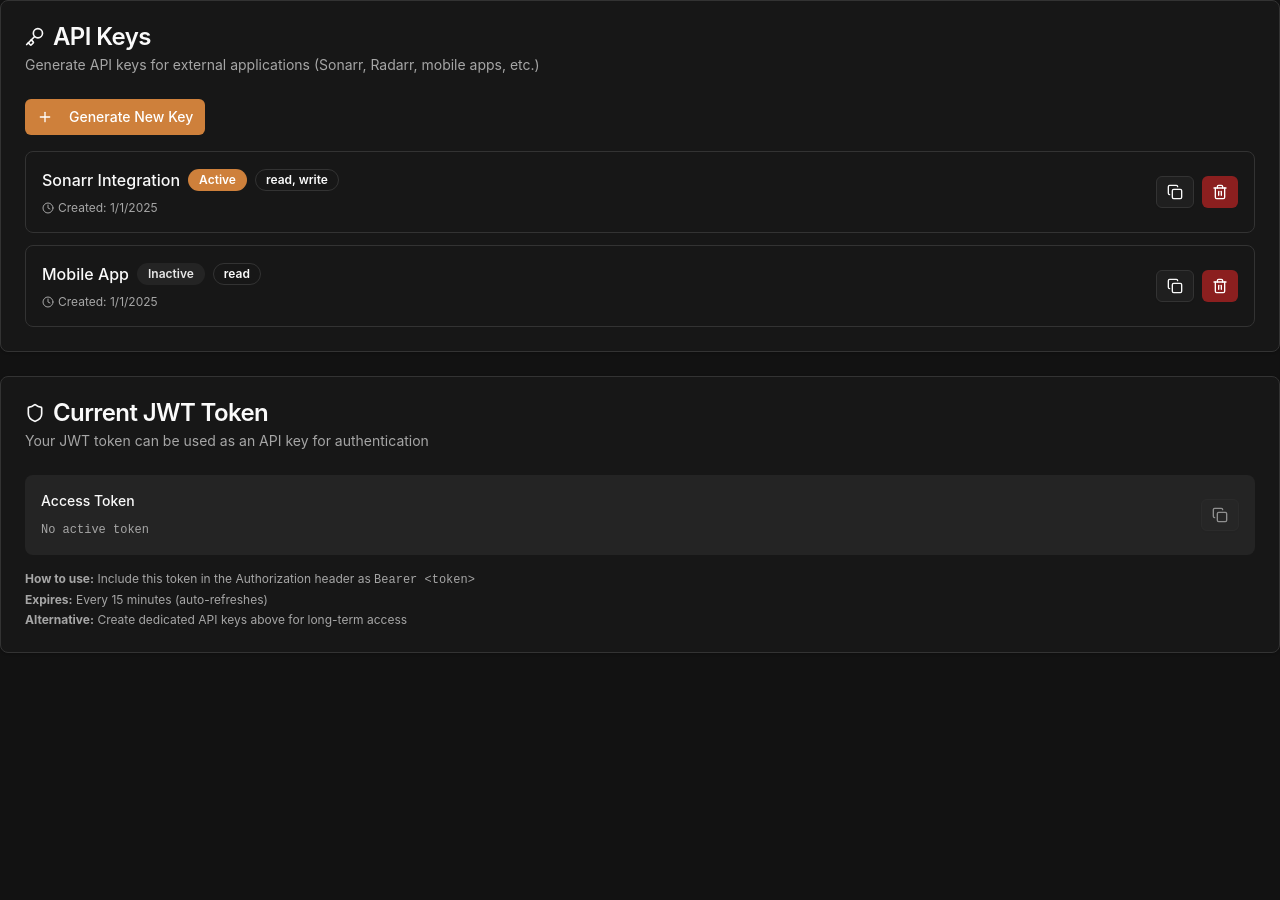
Test: ApiKeySettings › offers only permissions supported by the API
Step 1. Click the button "Generate New Key" → coordinates (115, 117), box [25,99,205,135]
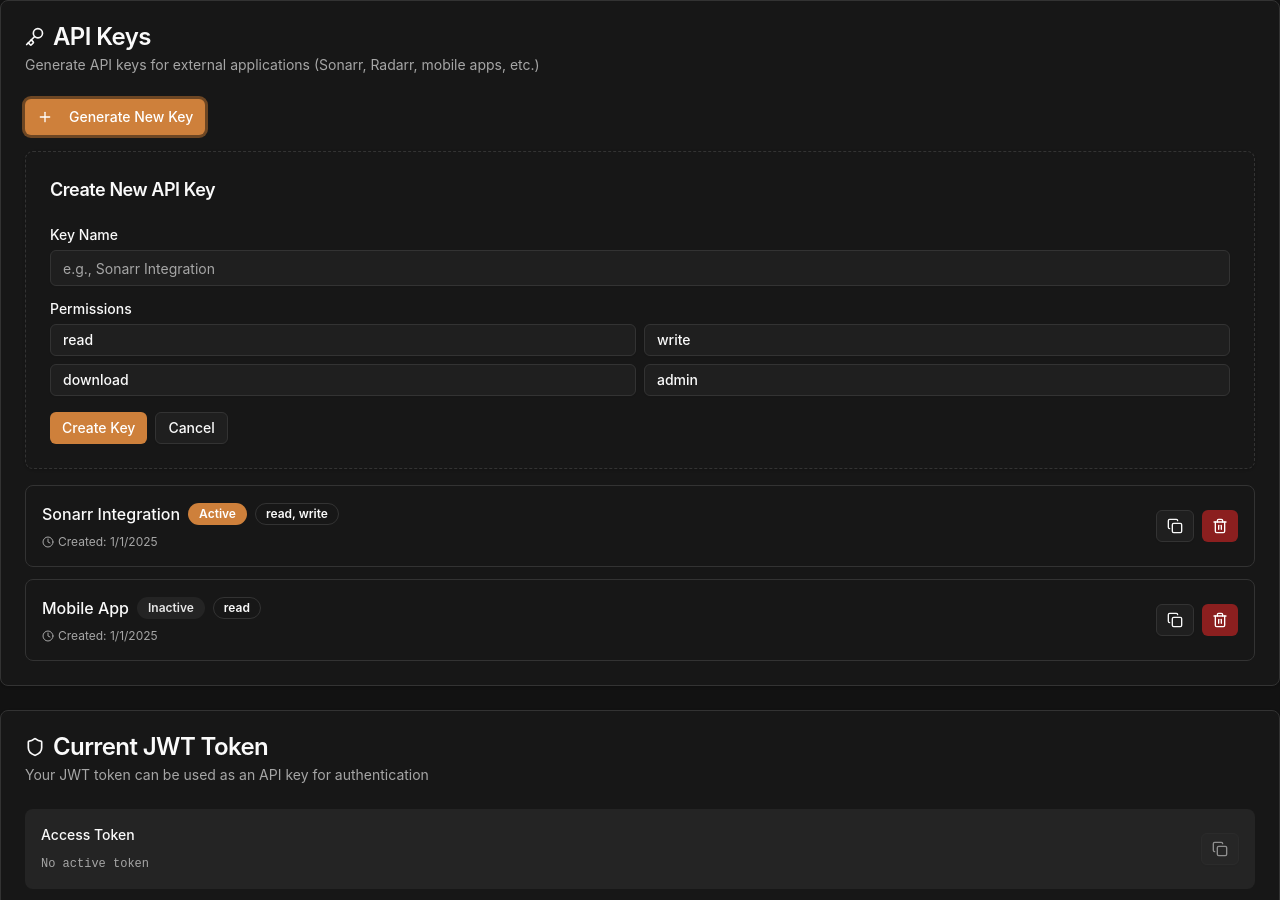
Expected: the button "read" is shown, [50,324,636,356]
Expected: the button "write" is shown, [644,324,1230,356]
Expected: the button "download" is shown, [50,364,636,396]
